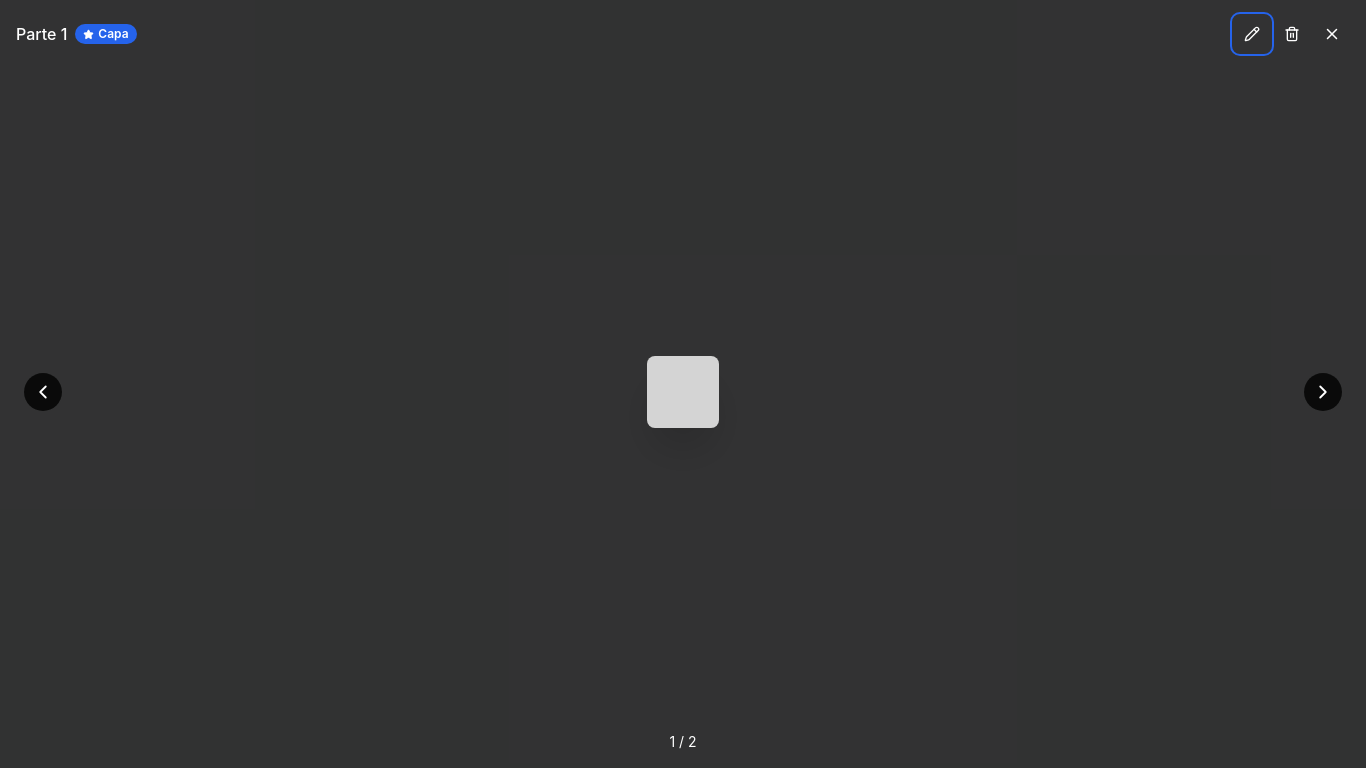
Test: GaleriaCarousel › deve fechar só a confirmação quando Esc é apertado com ela aberta
The width and height of the screenshot is (1366, 768).
Click the button named "remover foto" at (1292, 34), box [1274,16,1310,52]
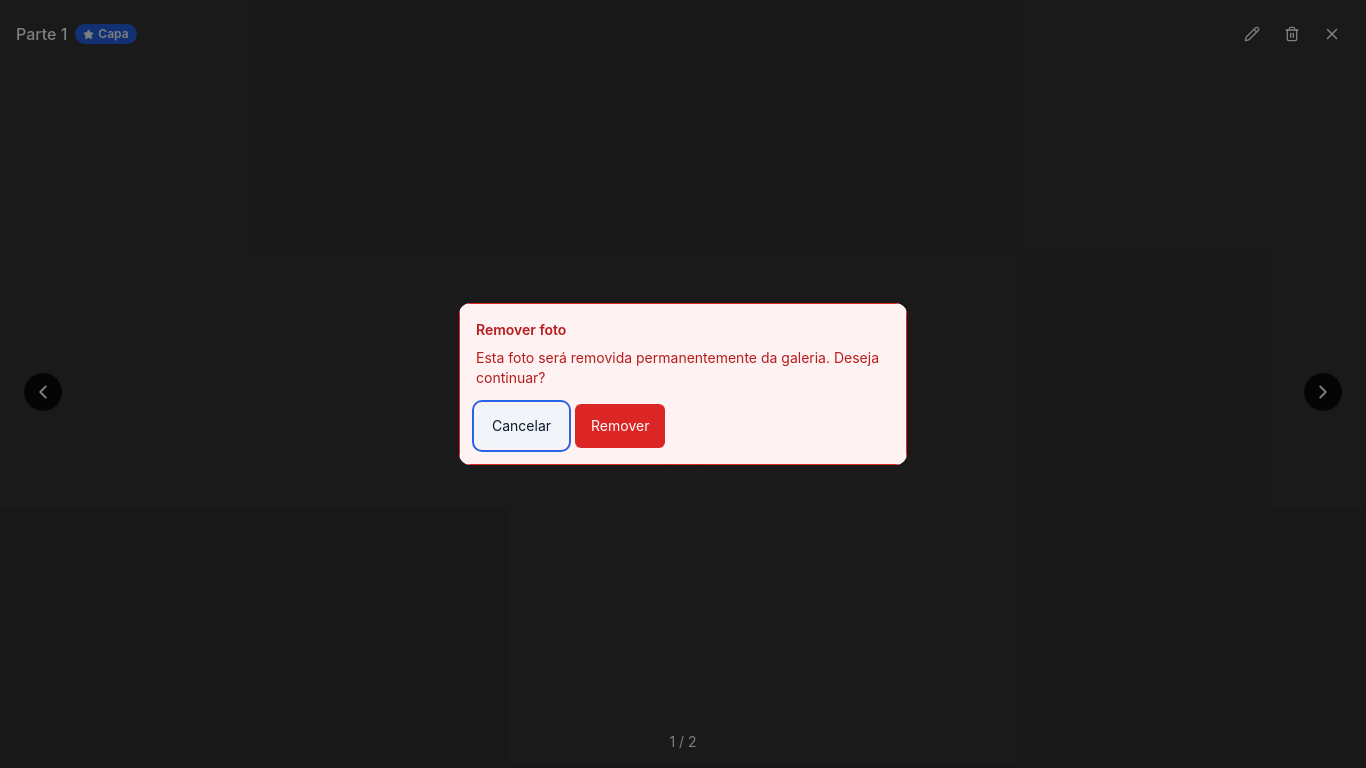
Press Escape
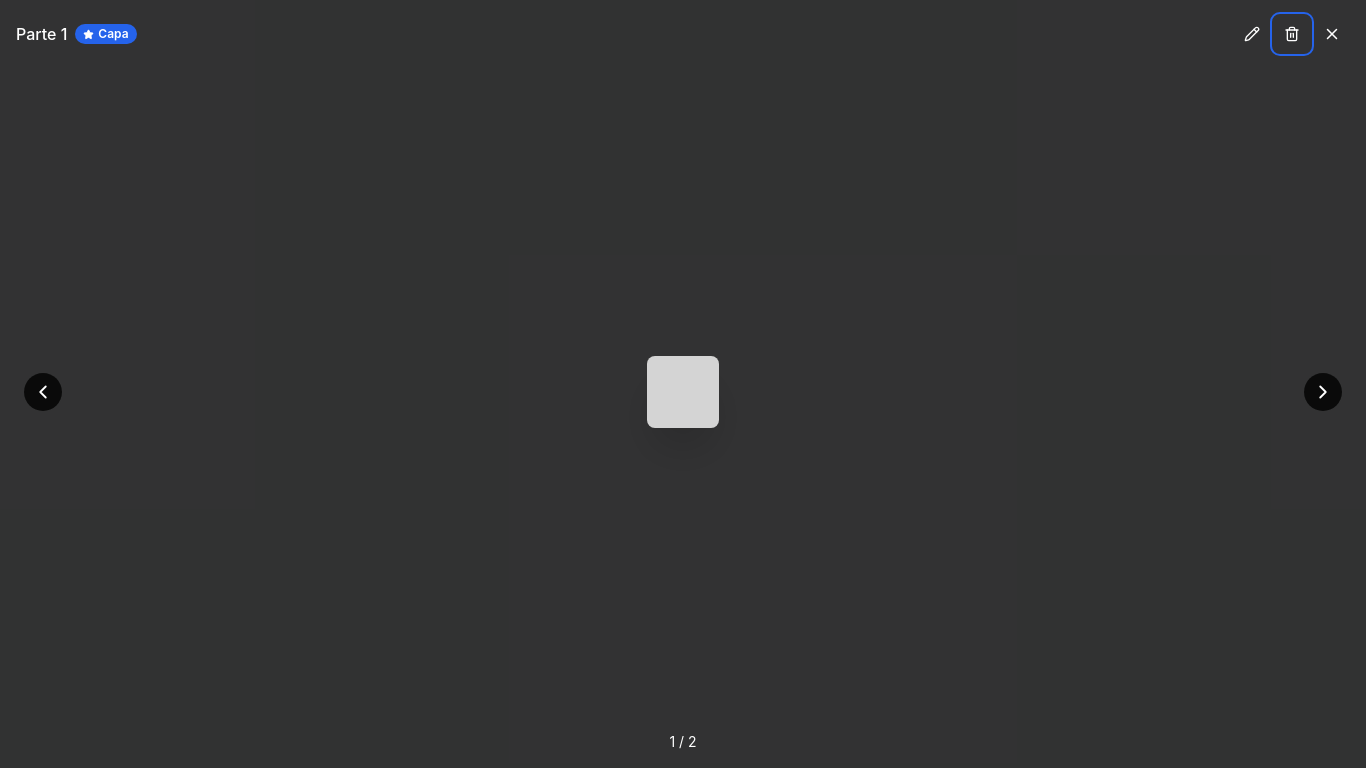
Expected: the heading "Remover foto" is gone
